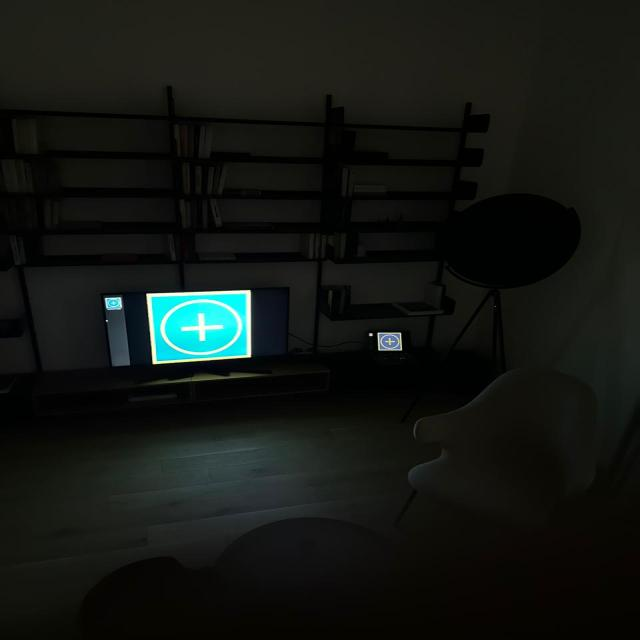Marker: (147, 290, 251, 364), (378, 333, 402, 350), (106, 297, 122, 310)
